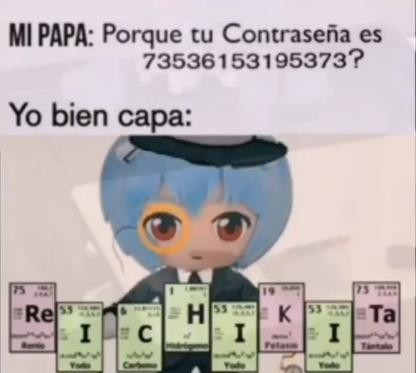rei-plush: (90, 113, 306, 290)
